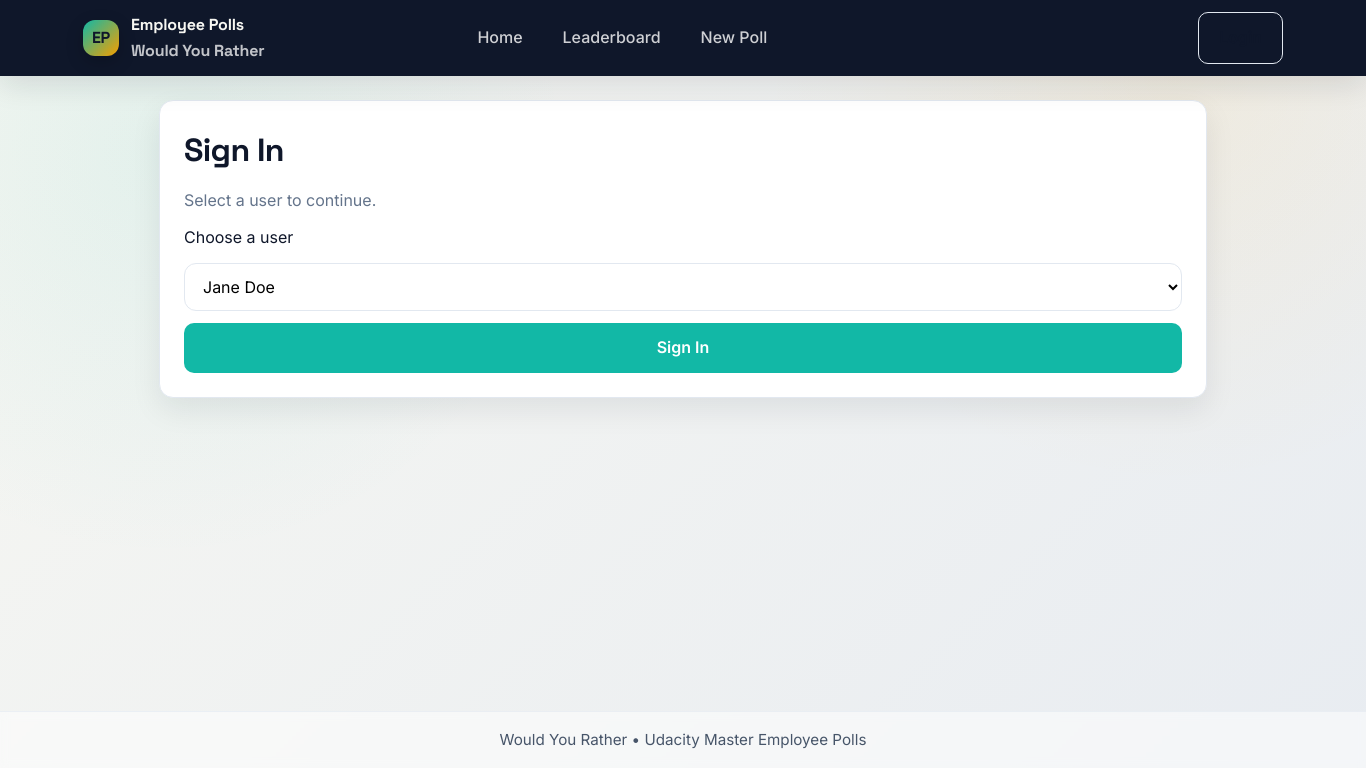
Scenario: routing and protection › invalid poll id redirects to login then returns Not Found after login
Select "Jane Doe" in the dropdown labelled "Choose a user" at point(683, 287), box left=184, top=263, right=1182, bottom=311
Click the button "Sign In" at point(683, 348), box left=184, top=323, right=1182, bottom=373
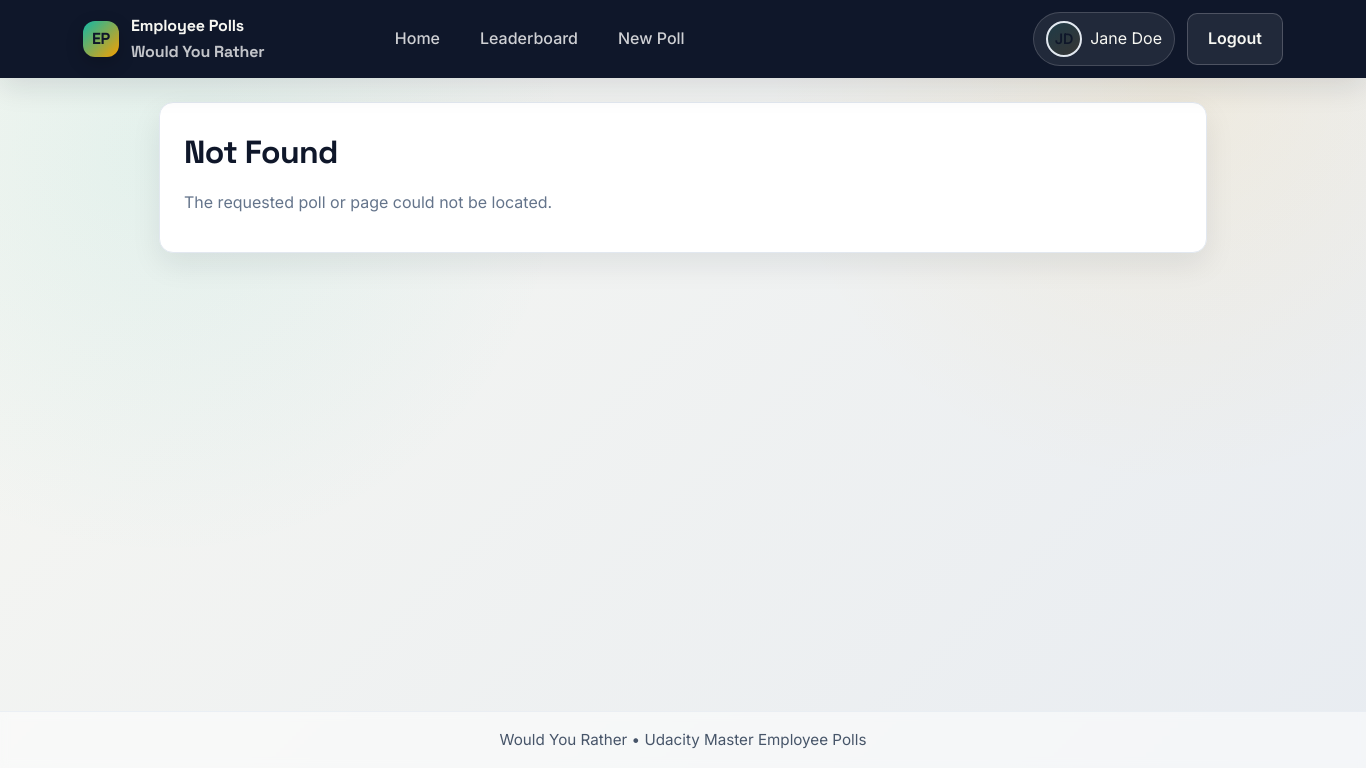
Result: the heading "Not Found" is shown at left=184, top=132, right=338, bottom=172
